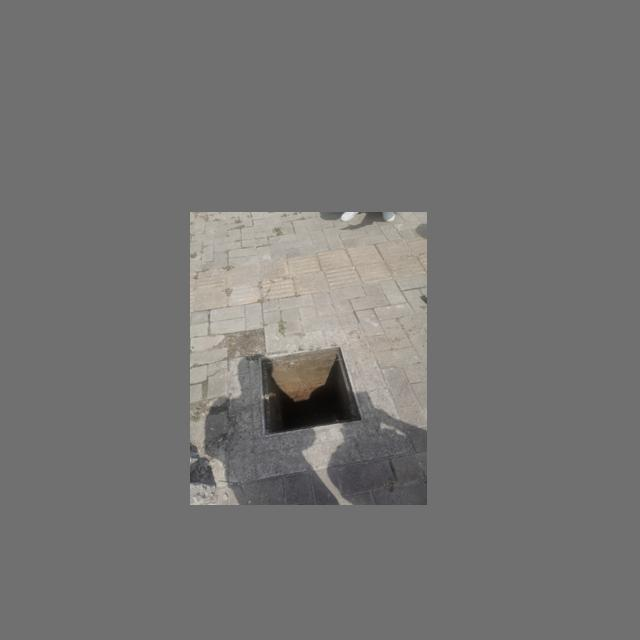lose: (258, 346, 365, 437)
